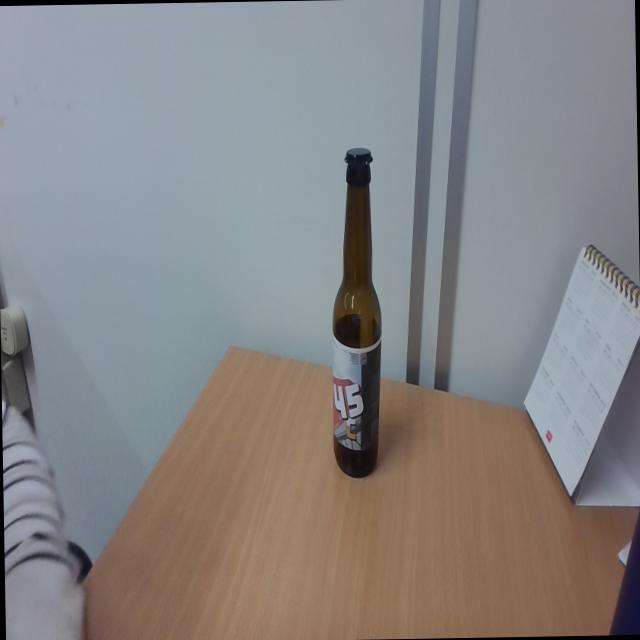Bottle: (328, 146, 384, 480)
Cap: (342, 144, 373, 170)
Label: (330, 339, 383, 450)
